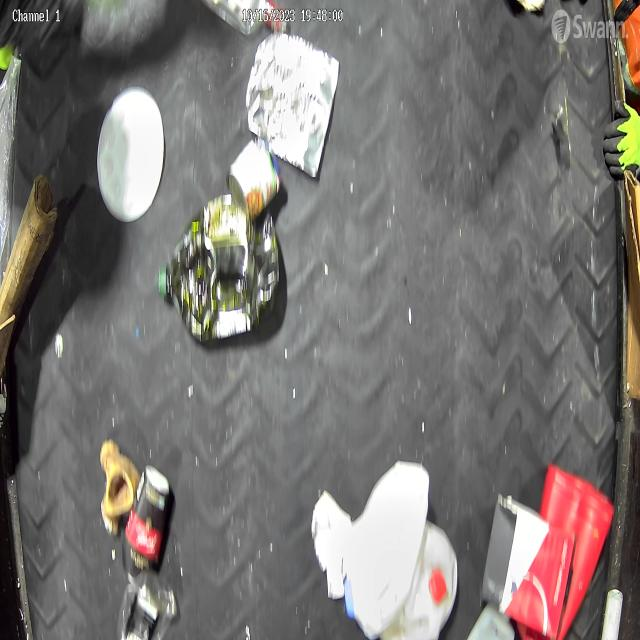can: (245, 31, 341, 180), (227, 136, 281, 218)
milk_jug: (344, 458, 429, 640), (380, 518, 460, 640)
non_white_jug: (157, 193, 282, 345)
